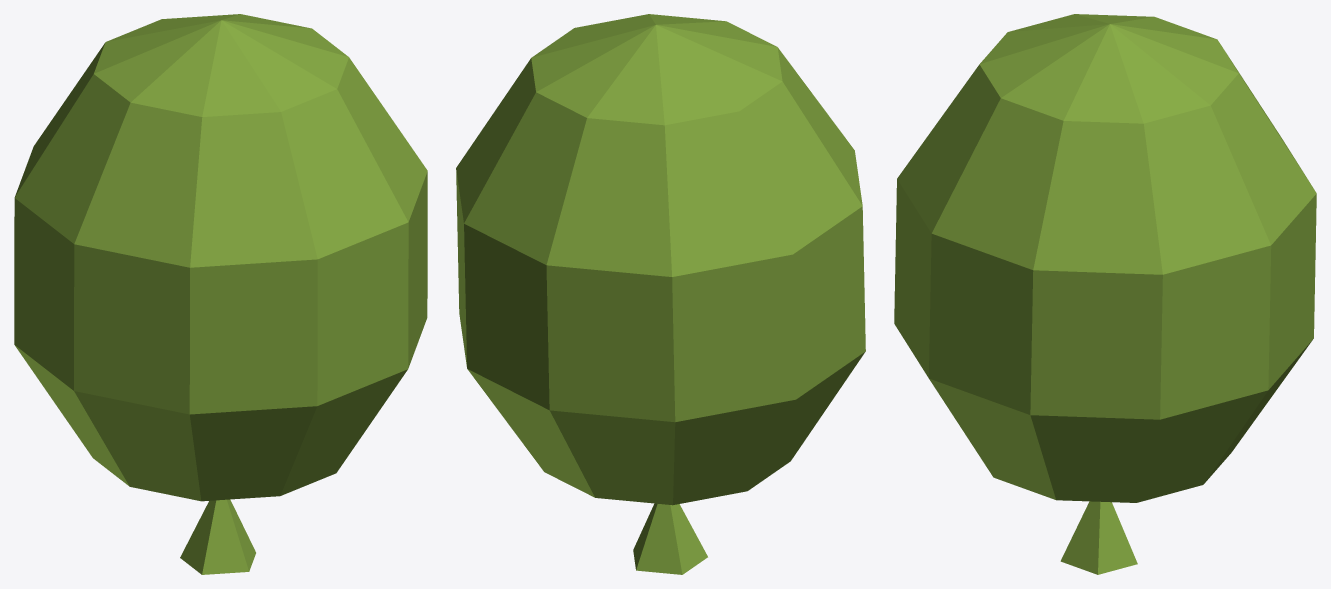
The model's file is balloon_green.fbx.
3 renders of one model, left to right at view 1: azimuth 30°, elevation 25°; view 2: azimuth 150°, elevation 25°; view 3: azimuth 270°, elevation 25°, orthographic.
Parts seen in each view (by area): view 1: balloon_green; view 2: balloon_green; view 3: balloon_green.
Boxes of the visible parts, left/top/right/bottom form: balloon_green: left=14, top=14, right=427, bottom=574; balloon_green: left=456, top=14, right=865, bottom=574; balloon_green: left=894, top=14, right=1316, bottom=574.
Size of the model in its own units: 359 by 523 by 373.
Materials: 1 (1 with a texture image).
